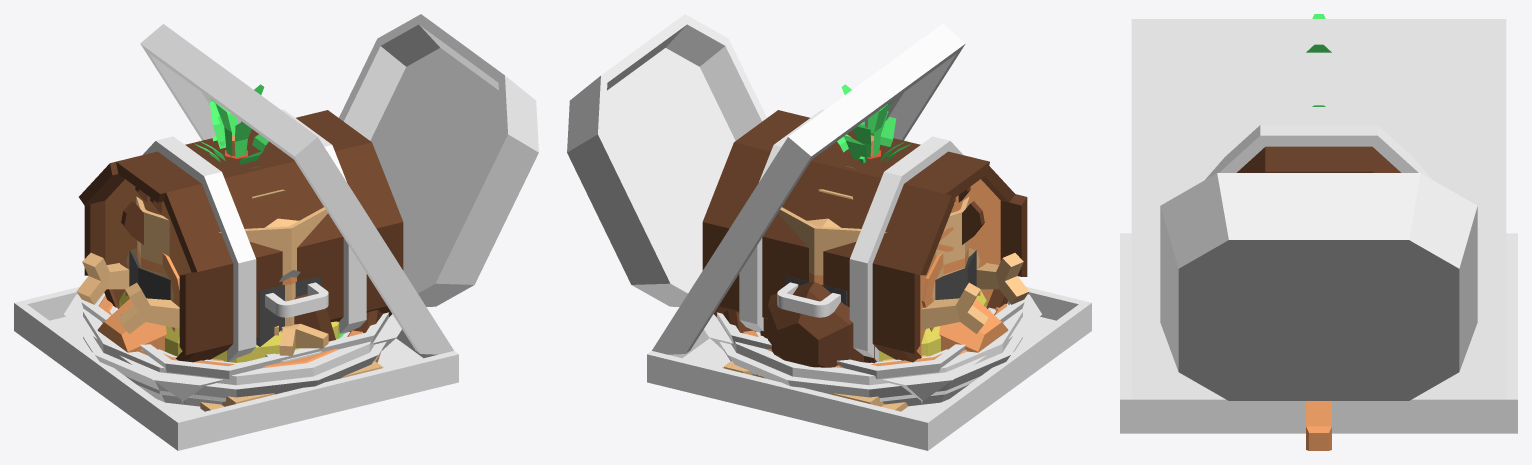
File: SC_Food.fbx
3 views of the same model, side by side, from view 1: azimuth 30°, elevation 25°; view 2: azimuth 150°, elevation 25°; view 3: azimuth 270°, elevation 25° (orthographic). The views are drawn at different scales.
Parts seen in each view (by area): view 1: SM_Barrel, SM_Styrofoam_Lid, SM_Pizza_Box, SM_Pizza_Box_Lid, SM_Pie, SM_Turkey_Leg, SM_Layer, SM_Pot, SM_Plate_Deep, SM_Styrofoam, SM_Plate_Rectangle, SM_Leek (+5 smaller); view 2: SM_Barrel, SM_Styrofoam_Lid, SM_Pizza_Box, SM_Pizza_Box_Lid, SM_Ham, SM_Pie, SM_Layer, SM_Turkey_Leg, SM_Plate_Deep, SM_Pot, SM_Styrofoam, SM_Plate_Rectangle (+5 smaller); view 3: SM_Pizza_Box_Lid, SM_Styrofoam_Lid, SM_Pizza_Box, SM_Barrel, SM_Frying_Pan, SM_Pie.
Part boxes in pixels (box(x1,y1,x2,y2)): SM_Barrel: box(79, 109, 403, 362); SM_Styrofoam_Lid: box(339, 14, 538, 306); SM_Pizza_Box: box(14, 287, 458, 450); SM_Pizza_Box_Lid: box(140, 24, 453, 354); SM_Pie: box(74, 295, 386, 406); SM_Turkey_Leg: box(76, 253, 335, 341); SM_Layer: box(136, 196, 327, 326); SM_Pot: box(129, 250, 328, 346); SM_Plate_Deep: box(83, 294, 389, 385); SM_Styrofoam: box(81, 293, 389, 379); SM_Plate_Rectangle: box(64, 294, 401, 403); SM_Leek: box(194, 84, 268, 164); SM_Barrel: box(702, 109, 1027, 362); SM_Styrofoam_Lid: box(567, 14, 766, 306); SM_Pizza_Box: box(647, 287, 1091, 450); SM_Pizza_Box_Lid: box(652, 24, 965, 354); SM_Ham: box(768, 282, 863, 367); SM_Pie: box(719, 303, 1031, 406); SM_Layer: box(778, 196, 969, 284); SM_Turkey_Leg: box(921, 253, 1029, 333); SM_Plate_Deep: box(716, 303, 1022, 385); SM_Pot: box(777, 250, 976, 317); SM_Styrofoam: box(716, 300, 1024, 379); SM_Plate_Rectangle: box(704, 294, 1041, 403); SM_Pizza_Box_Lid: box(1131, 19, 1506, 399); SM_Styrofoam_Lid: box(1160, 173, 1477, 400); SM_Pizza_Box: box(1120, 233, 1517, 433); SM_Barrel: box(1205, 125, 1432, 179); SM_Frying_Pan: box(1306, 401, 1331, 450); SM_Pie: box(1120, 289, 1517, 323).
Bounding box in the file's own units: 0.7791 × 0.5473 × 0.5473.
